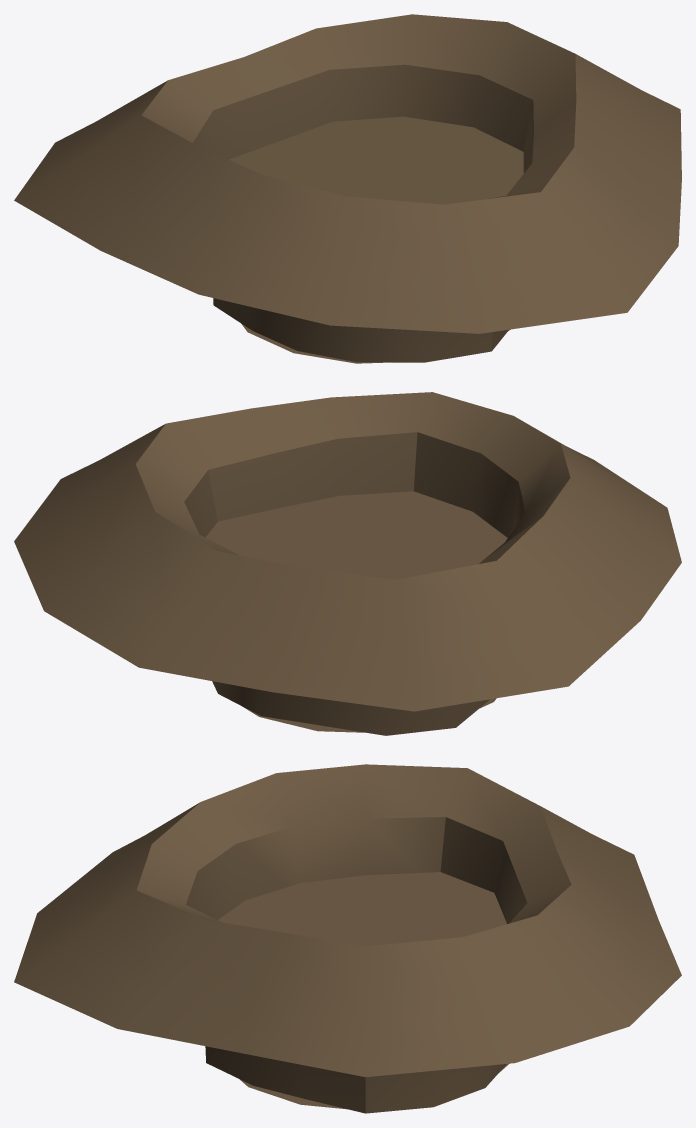
The model's file is foxhole.glb.
The picture shows the model from 3 angles, top to bottom: view 1: azimuth 30°, elevation 25°; view 2: azimuth 150°, elevation 25°; view 3: azimuth 270°, elevation 25°; orthographic projection.
Visible parts, largest first — view 1: foxhole; view 2: foxhole; view 3: foxhole.
Part boxes in pixels (left/top/right/bottom): foxhole: left=14, top=14, right=681, bottom=363; foxhole: left=14, top=392, right=681, bottom=735; foxhole: left=14, top=764, right=681, bottom=1113.
Size of the model in its own units: 3.48 by 1.19 by 3.47.
